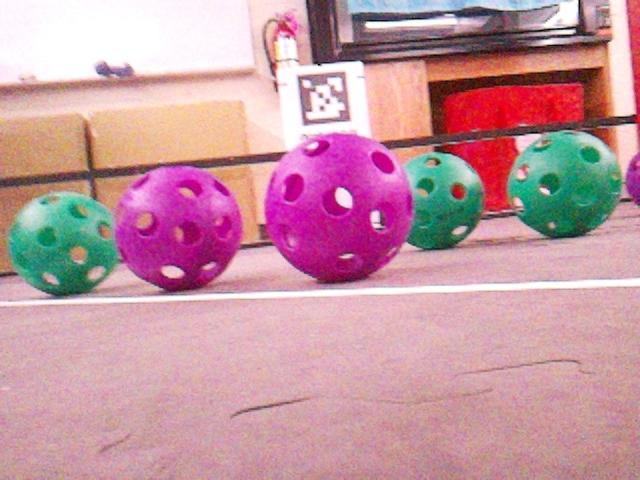Green: (507, 131, 621, 236), (5, 191, 118, 295), (401, 153, 486, 248)
Purple: (263, 134, 412, 281), (114, 165, 244, 290), (624, 150, 639, 204)
